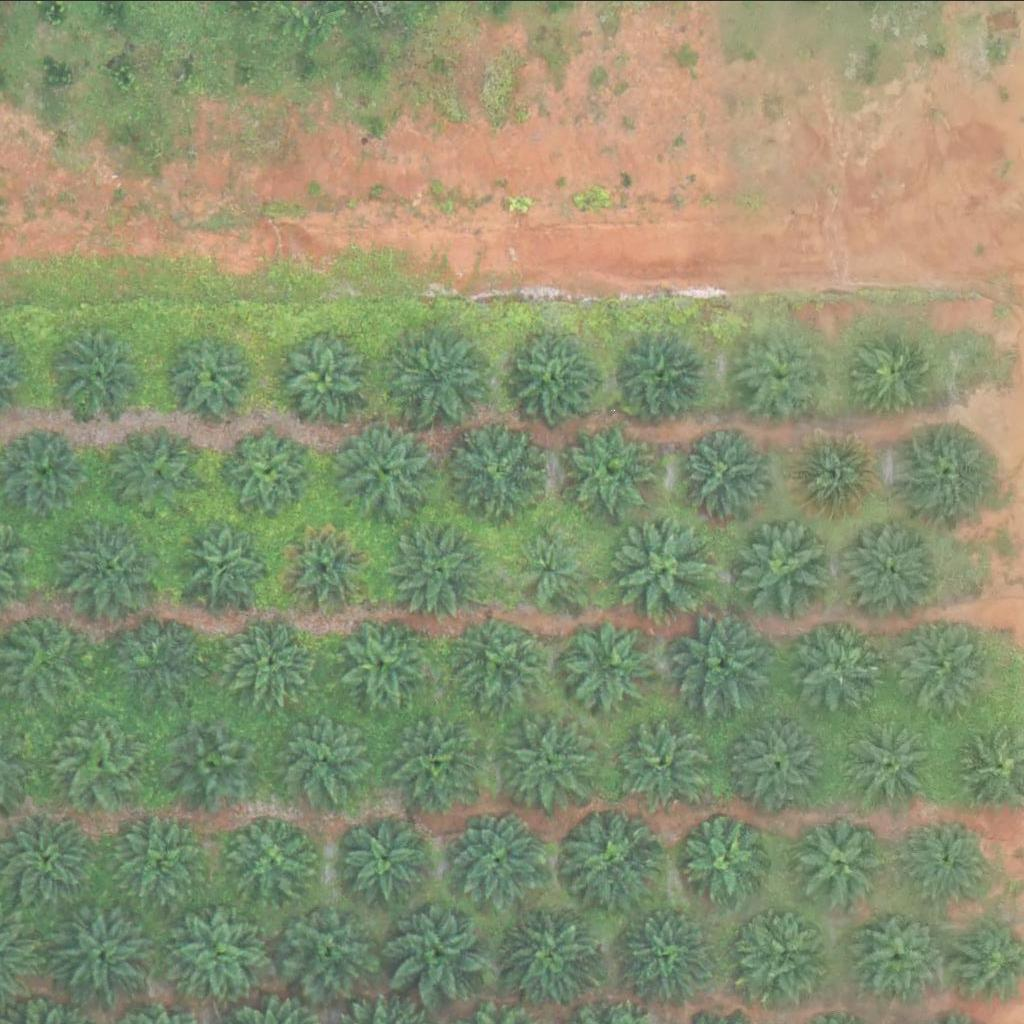Kelapa_Sawit: (47, 893, 160, 1006), (108, 807, 209, 907), (64, 516, 165, 616), (615, 512, 716, 612), (335, 612, 436, 712), (451, 611, 552, 711), (675, 613, 776, 713), (271, 706, 372, 806), (388, 709, 489, 809), (497, 710, 598, 810), (614, 711, 715, 811), (730, 713, 831, 813), (448, 810, 549, 910), (561, 805, 662, 905), (279, 900, 380, 1000), (388, 902, 489, 1002), (504, 904, 605, 1004), (614, 902, 715, 1002), (888, 616, 989, 716), (736, 514, 837, 614), (840, 516, 941, 616), (894, 417, 995, 517), (110, 605, 210, 705), (385, 327, 485, 427), (337, 422, 437, 522), (451, 420, 551, 520), (389, 517, 489, 617), (848, 900, 948, 1000), (52, 718, 140, 806), (171, 715, 259, 803), (56, 326, 144, 414), (170, 330, 258, 418), (280, 329, 368, 417), (567, 422, 655, 510), (677, 428, 765, 516), (227, 615, 315, 703), (685, 815, 773, 903), (798, 815, 886, 903), (904, 813, 992, 901), (844, 717, 932, 805), (788, 428, 876, 516), (851, 323, 939, 411), (177, 907, 265, 994), (1, 812, 89, 899), (112, 425, 200, 512), (184, 520, 272, 607), (517, 330, 605, 417), (614, 329, 702, 416), (740, 330, 828, 417), (223, 428, 311, 515), (281, 524, 369, 611), (563, 621, 651, 708), (230, 816, 318, 903), (345, 813, 433, 900), (744, 910, 832, 997), (791, 614, 879, 701), (517, 530, 593, 605)
